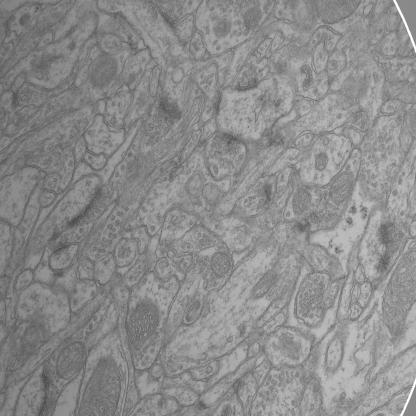mitochondria: (379, 245, 416, 338), (77, 357, 122, 416), (126, 298, 159, 348), (56, 342, 87, 382), (84, 54, 118, 87), (329, 171, 356, 205), (292, 186, 313, 216), (210, 249, 231, 278), (313, 151, 330, 172)
